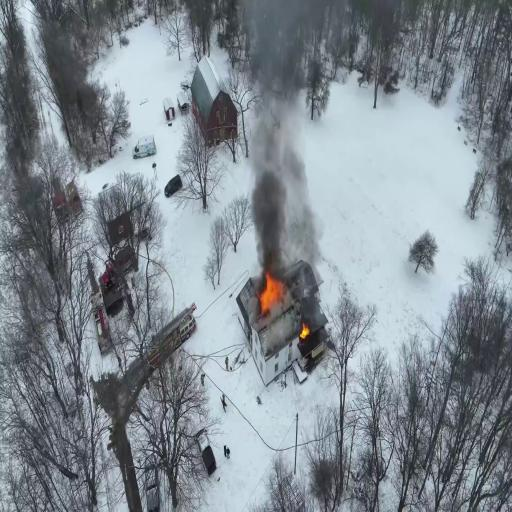fire: (259, 276, 282, 312), (304, 325, 311, 344)
smoke: (258, 180, 283, 272)
